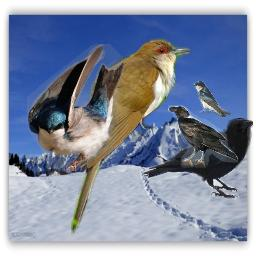Crow: (142, 118, 253, 200), (168, 105, 238, 168)
Cuckoo: (71, 37, 190, 236)
Swallow: (27, 44, 125, 176), (193, 81, 231, 117)
